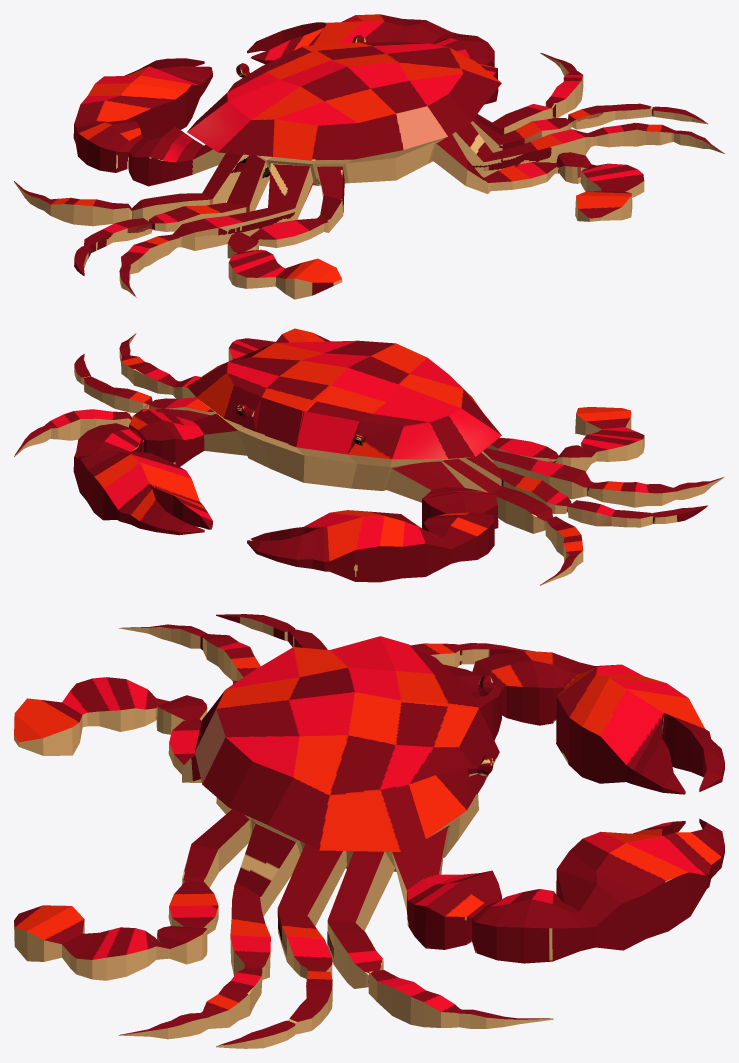
File: crab.gltf
3 views of the same model, one above another, from view 1: azimuth 30°, elevation 25°; view 2: azimuth 150°, elevation 25°; view 3: azimuth 270°, elevation 25° (orthographic). The views are drawn at different scales.
Parts seen in each view (by area): view 1: Cube; view 2: Cube; view 3: Cube.
Part boxes in pixels (x1,y1,x2,y2): Cube: (14, 14, 724, 299); Cube: (14, 328, 724, 585); Cube: (14, 614, 724, 1048).
Size of the model in its own units: 3.14 by 0.5461 by 2.19.
1 material, 1 textured.
